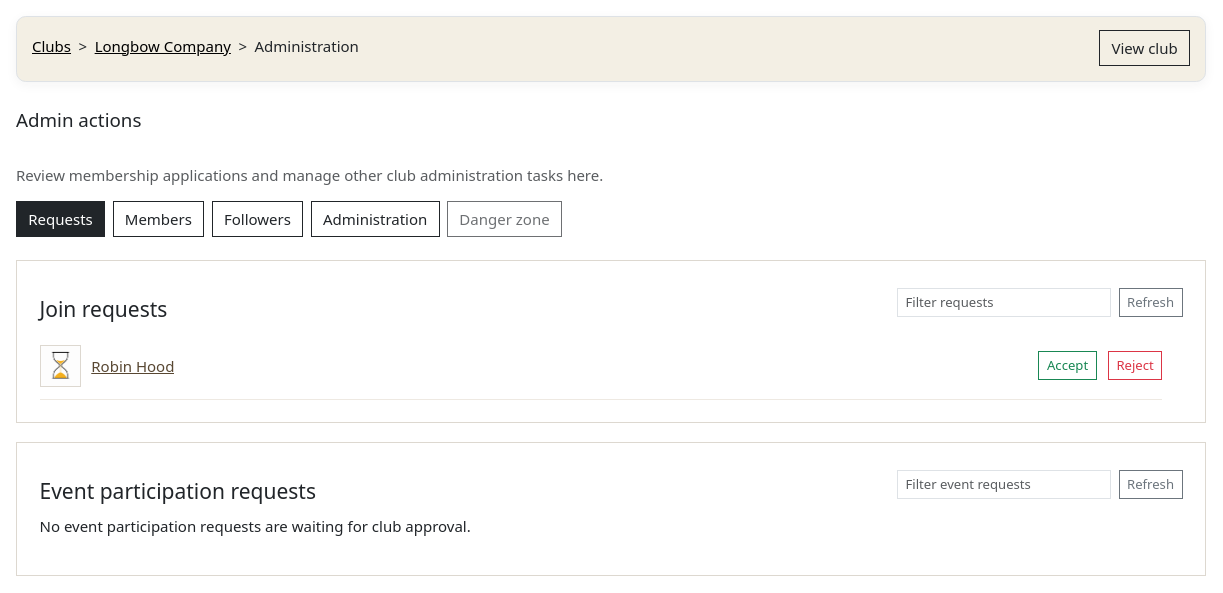
Test: club admins can reject a pending request from the admin page
The image size is (1223, 593).
Click the button "Reject": [1135, 366] box x1=1108 y1=351 x2=1162 y2=380
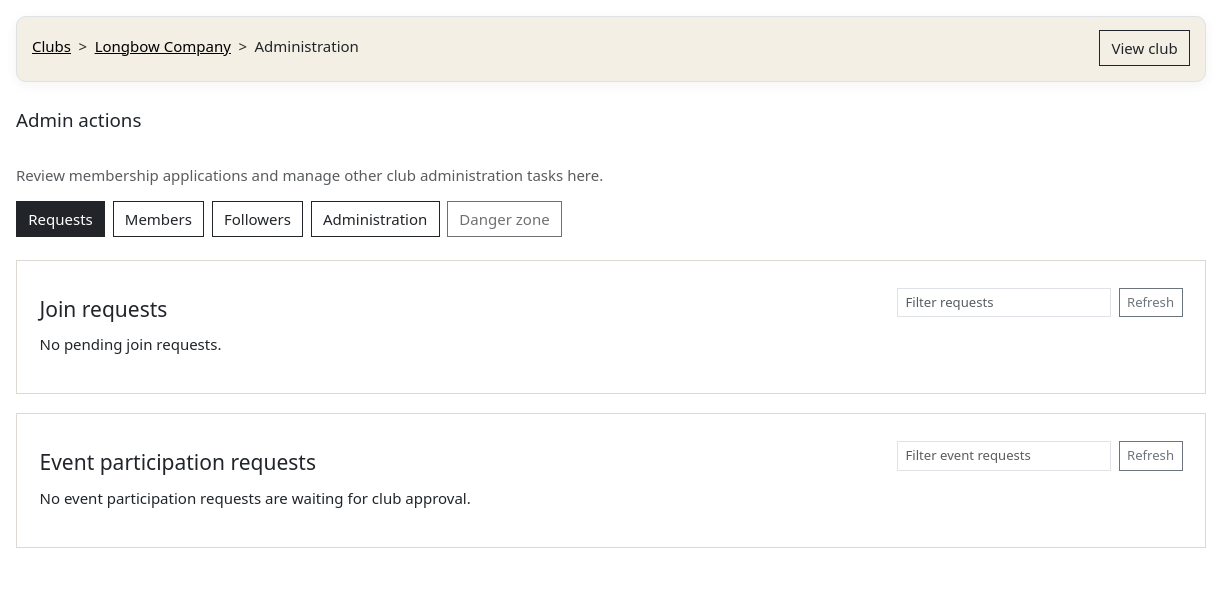
Expected: the text "No pending join requests." is shown, x1=40 y1=334 x2=221 y2=354
